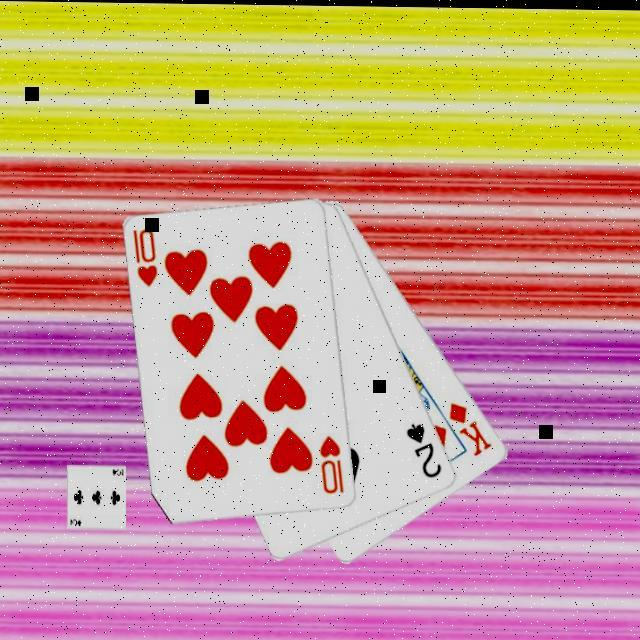10H: (315, 433, 347, 497), (128, 226, 160, 290)
2S: (402, 420, 444, 480)
KD: (445, 398, 494, 460)
